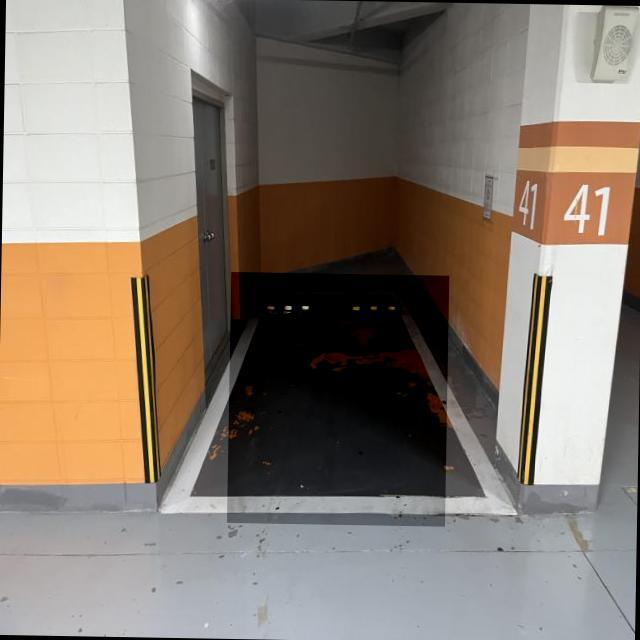empty: (226, 272, 448, 526)
